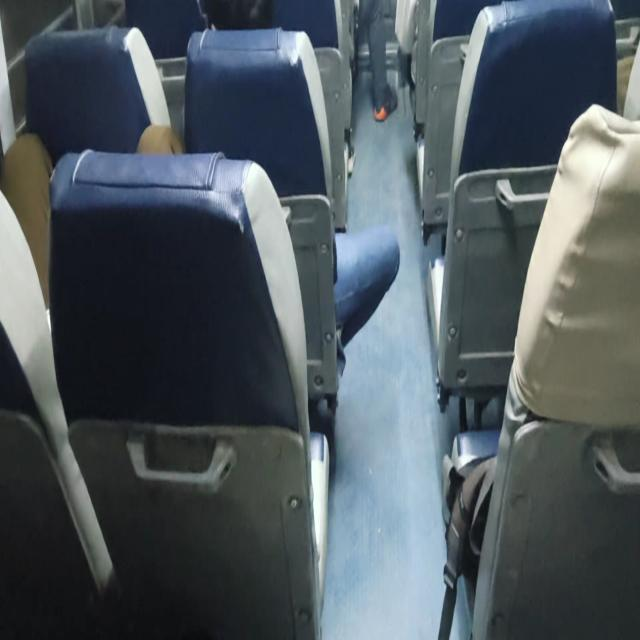person: (210, 0, 272, 52)
